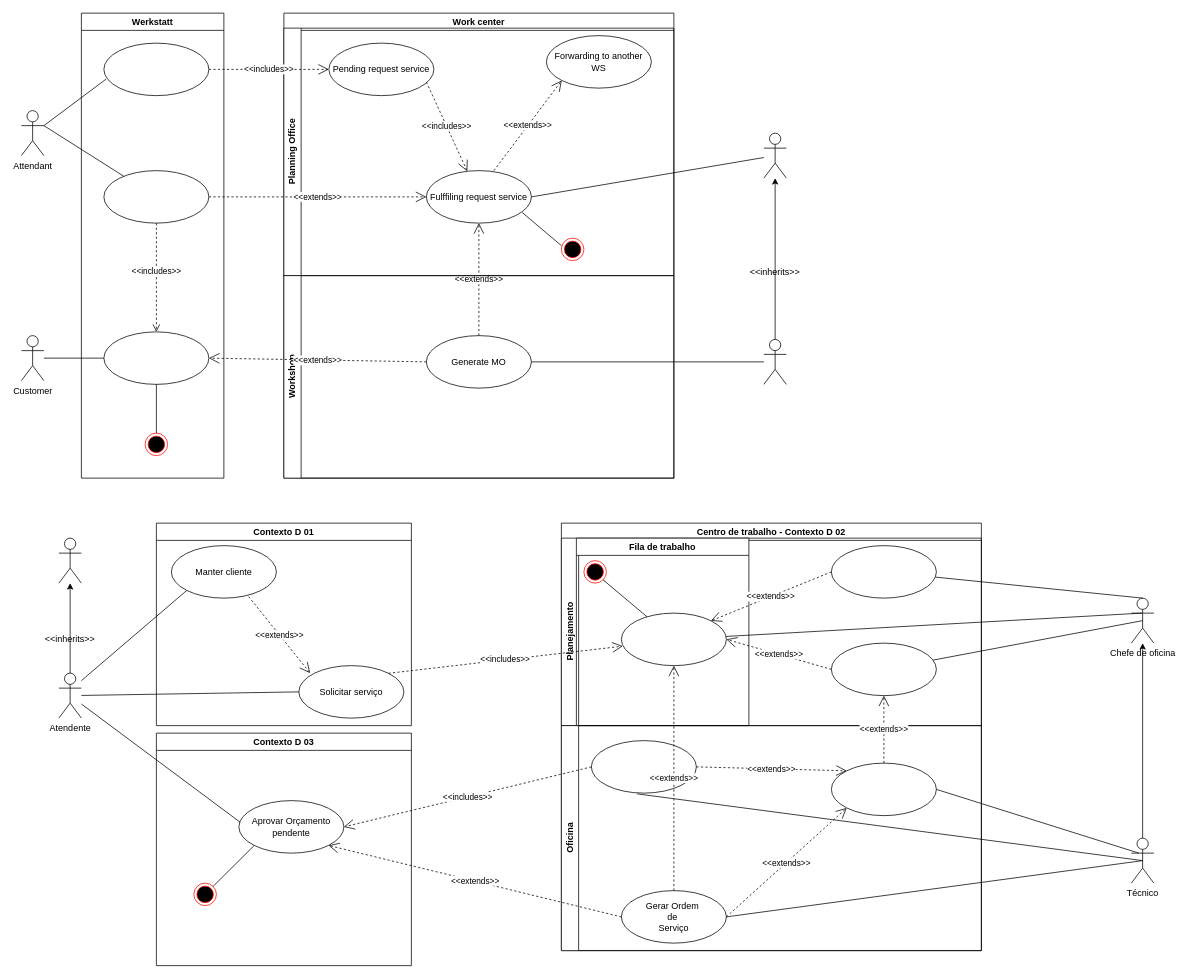
The diagram is 1188 pixels wide and 979 high, and some of its shapes have lost their labels. The shapes that lost their labels are listed below. From the top down, each one's centre as x and y in pixels, then its label:
At point 156,69: "Requesting Service".
At point 774,155: "Mainteinar Chief".
At point 156,196: "Generating customer service budget".
At point 156,357: "Authorizing Maintenance planning".
At point 774,361: "Maintainer".
At point 69,560: "Usuario".
At point 883,571: "Triar para outro CT".
At point 673,639: "Atender Solicitação pendente".
At point 883,669: "Triar para oficina".
At point 643,766: "Gerar Orçamento".
At point 883,789: "Avaliar serviço".
